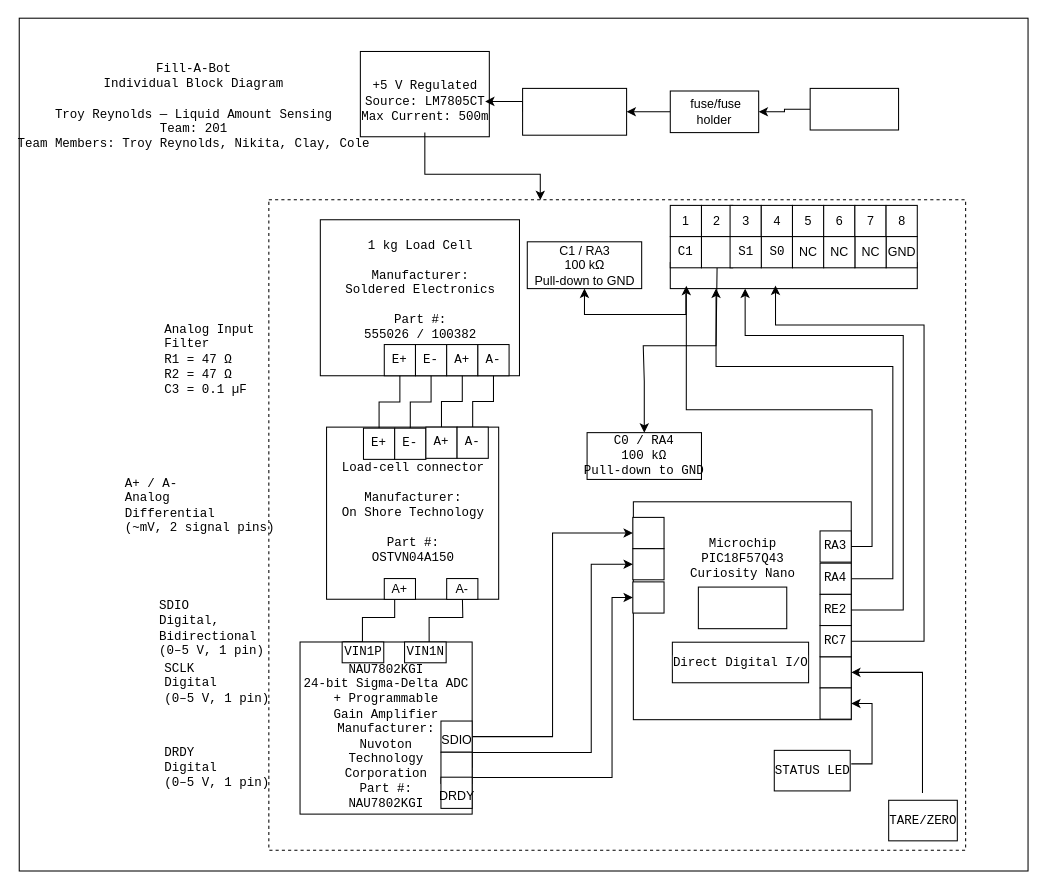
This 1046x889 diagram has some shape labels left out. The centre of each missing label's shape, as x and y in pixels:
"9–12 V input" goes at pixel 854 108.
"C0" goes at pixel 716 252.
"CONNECTOR 1" goes at pixel 793 275.
"Digital I/O" goes at pixel 742 607.
"LM7805CT" goes at pixel 574 111.
"RA0" goes at pixel 835 672.
"RB1" goes at pixel 648 564.
"RB2" goes at pixel 648 532.
"RC0" goes at pixel 648 597.
"RC1" goes at pixel 835 703.
"SCLK" goes at pixel 456 767.
